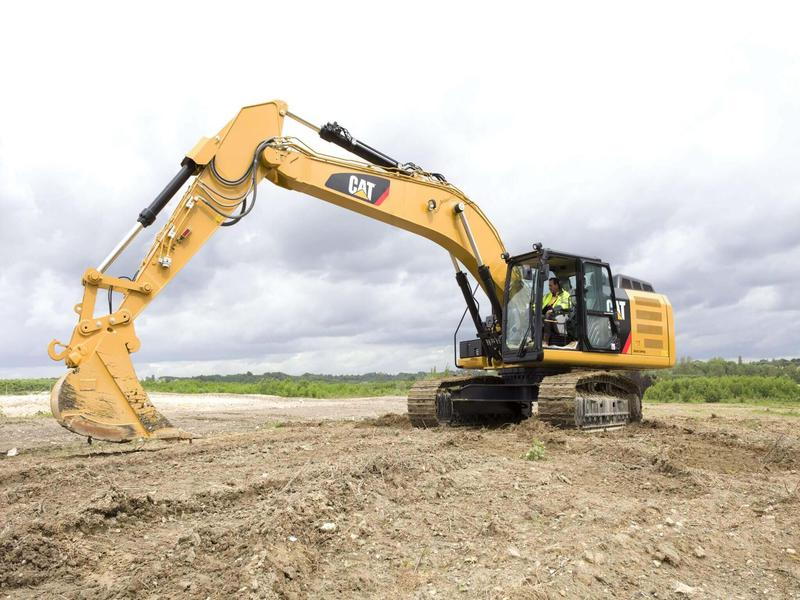shovel: (41, 94, 682, 453)
